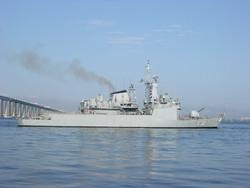warship: (16, 59, 227, 127)
